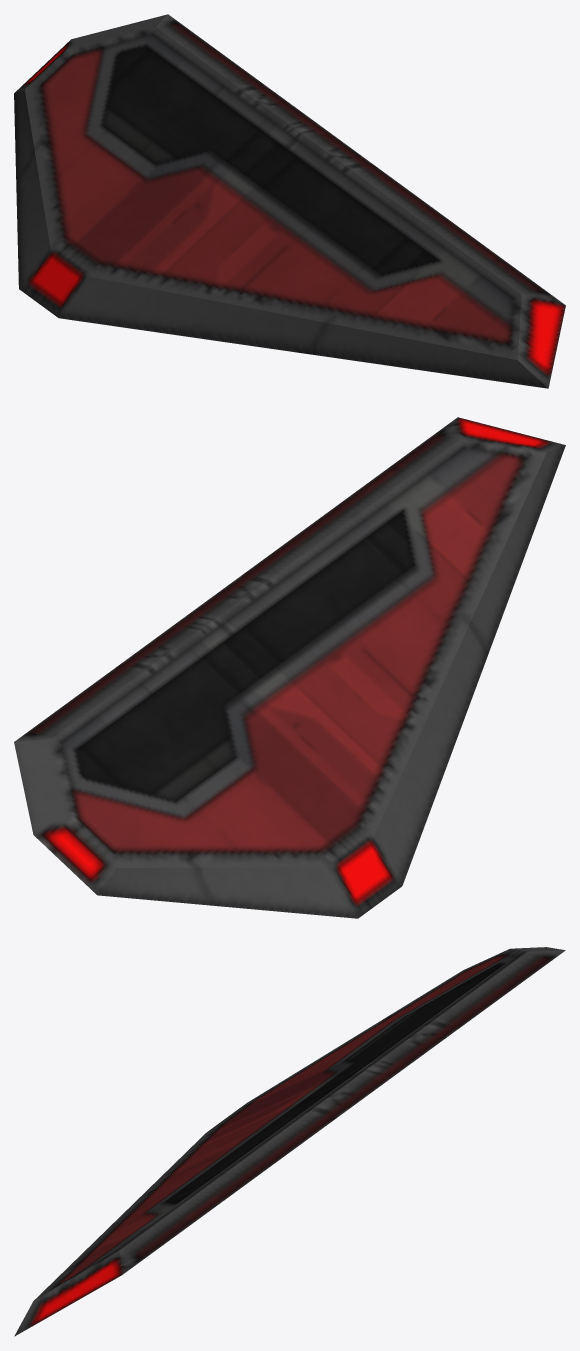
File: BFP_MidSizedWing_01_Right.FBX
3 views of the same model, one above another, from view 1: azimuth 30°, elevation 25°; view 2: azimuth 150°, elevation 25°; view 3: azimuth 330°, elevation 25° (orthographic). The views are drawn at different scales.
Parts seen in each view (by area): view 1: BFP_MidSizedWing_01_Right; view 2: BFP_MidSizedWing_01_Right; view 3: BFP_MidSizedWing_01_Right.
Part boxes in pixels (left/top/right/bottom): BFP_MidSizedWing_01_Right: left=14, top=14, right=565, bottom=388; BFP_MidSizedWing_01_Right: left=14, top=417, right=565, bottom=918; BFP_MidSizedWing_01_Right: left=14, top=947, right=565, bottom=1336.
Size of the model in its own units: 172 by 116 by 620.
1 material, 1 textured.
